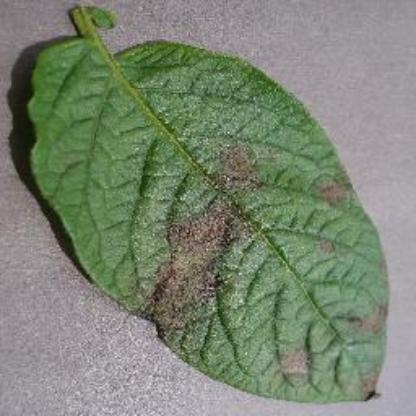Late-Blight: (18, 3, 392, 404)
